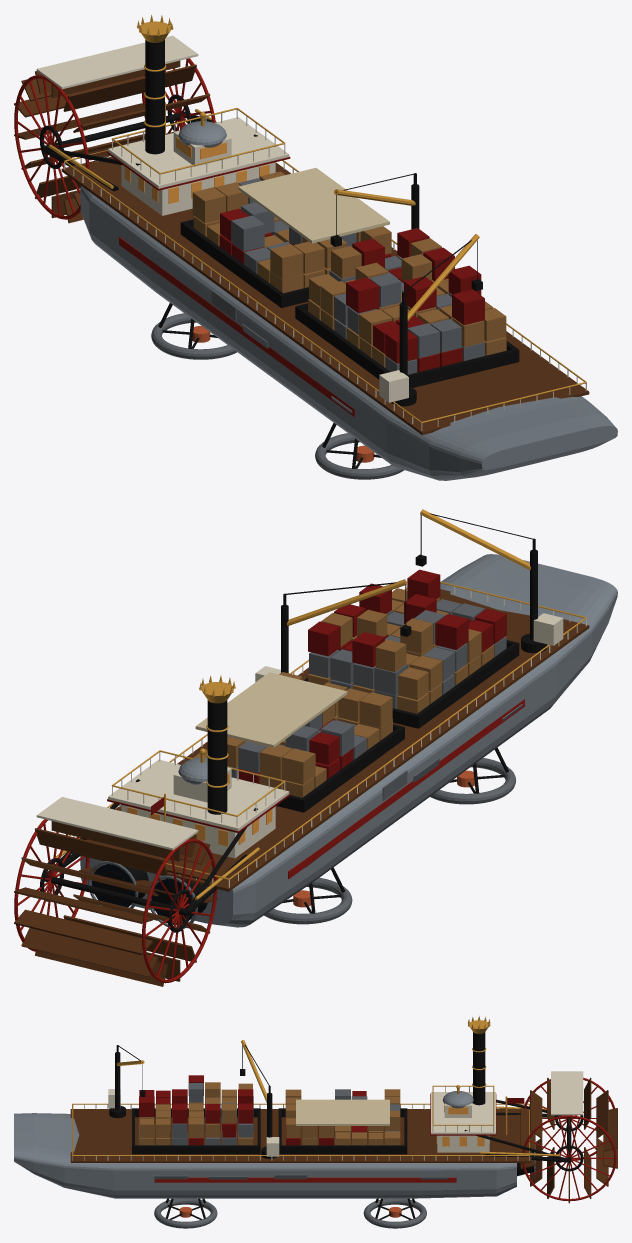
File: cargo_barge.obj
The picture shows the model from 3 angles, top to bottom: view 1: azimuth 30°, elevation 25°; view 2: azimuth 150°, elevation 25°; view 3: azimuth 270°, elevation 25°; orthographic projection. The views are drawn at different scales.
Visible parts, largest first — view 1: cargo_barge; view 2: cargo_barge; view 3: cargo_barge.
Part boxes in pixels (x1=…): cargo_barge: x1=14, y1=15, x2=617, y2=480; cargo_barge: x1=14, y1=509, x2=617, y2=986; cargo_barge: x1=14, y1=1016, x2=617, y2=1228.
Size of the model in its own units: 138 by 187 by 600.
Materials: 1 (1 with a texture image).
